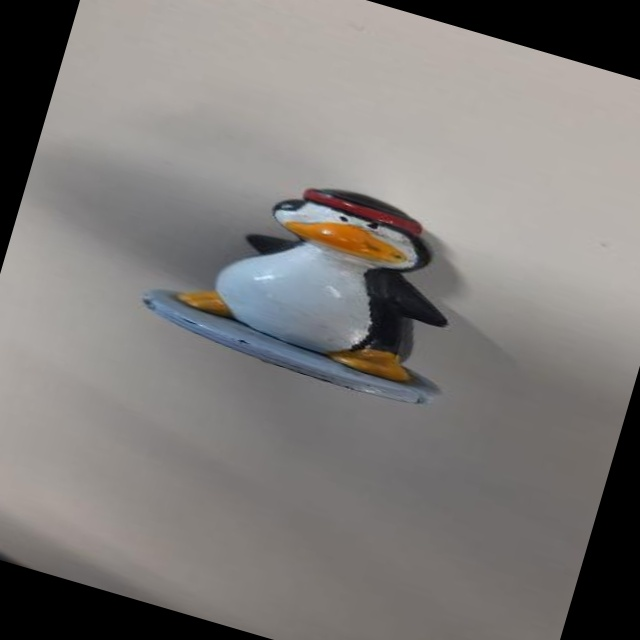Penguin: (128, 137, 497, 421)
